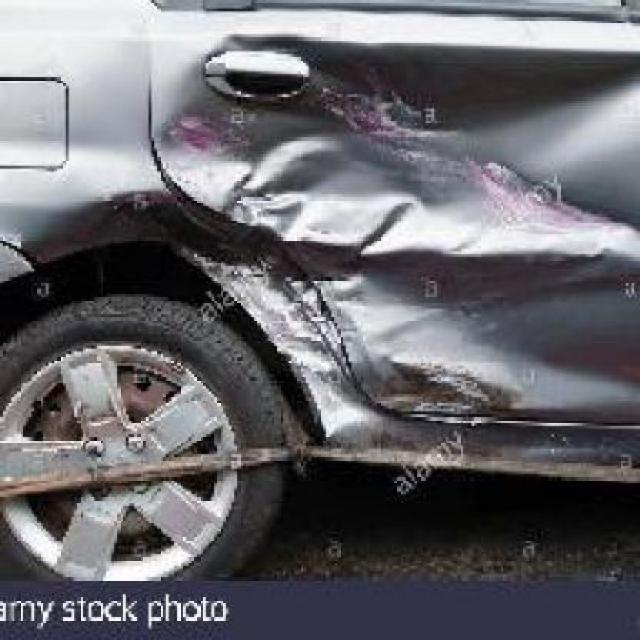damaged-door: (144, 0, 638, 455)
